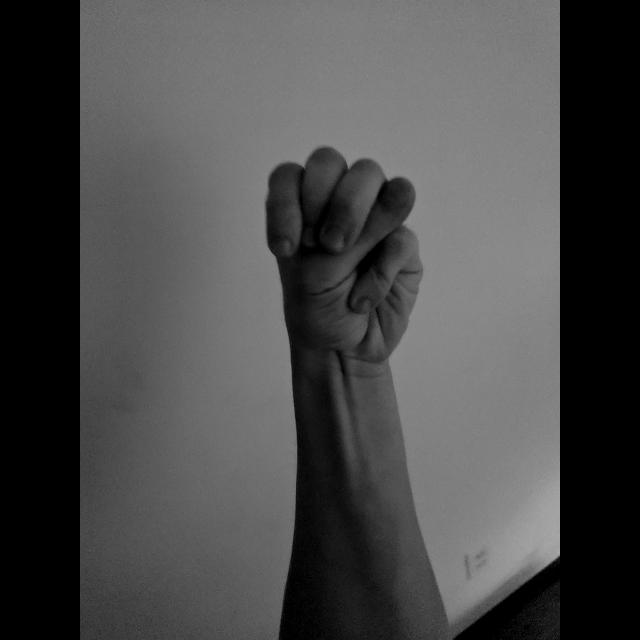M: (260, 140, 430, 368)
